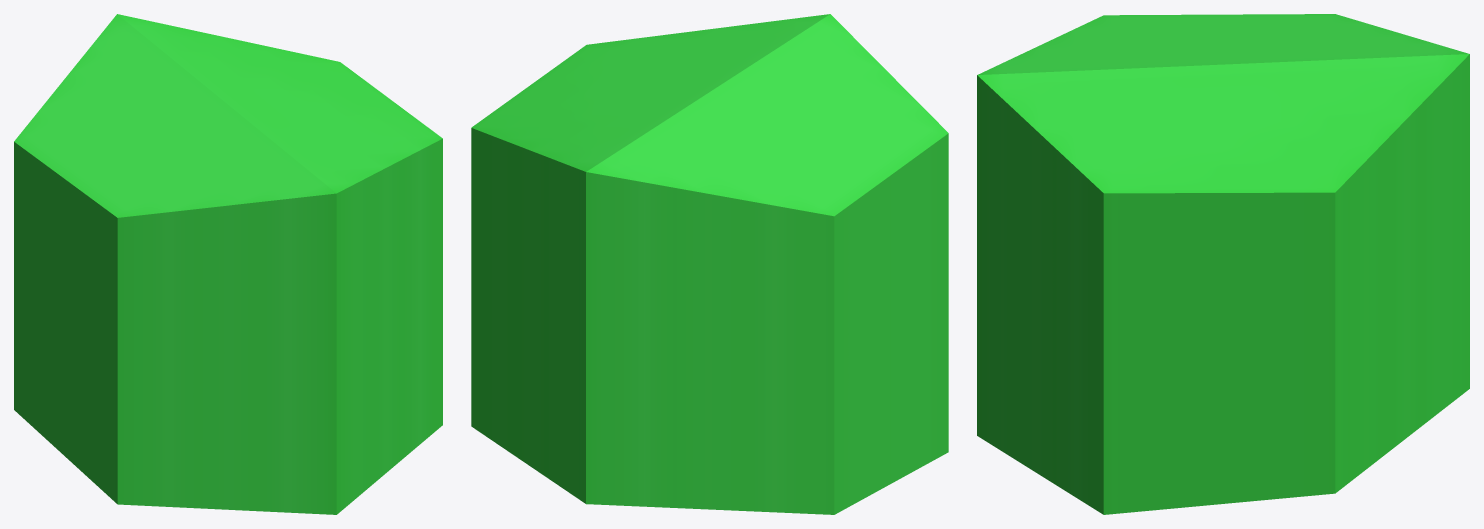
File: led.obj
3 views of the same model, side by side, from view 1: azimuth 30°, elevation 25°; view 2: azimuth 150°, elevation 25°; view 3: azimuth 270°, elevation 25° (orthographic). The views are drawn at different scales.
Parts seen in each view (by area): view 1: led_led_mesh; view 2: led_led_mesh; view 3: led_led_mesh.
Boxes of the visible parts, <box> form: led_led_mesh: <box>14,14,442,514</box>; led_led_mesh: <box>471,14,948,514</box>; led_led_mesh: <box>977,14,1469,514</box>.
Bounding box in the file's own units: 0.00151 × 0.0015 × 0.00176.
1 material, 1 textured.
